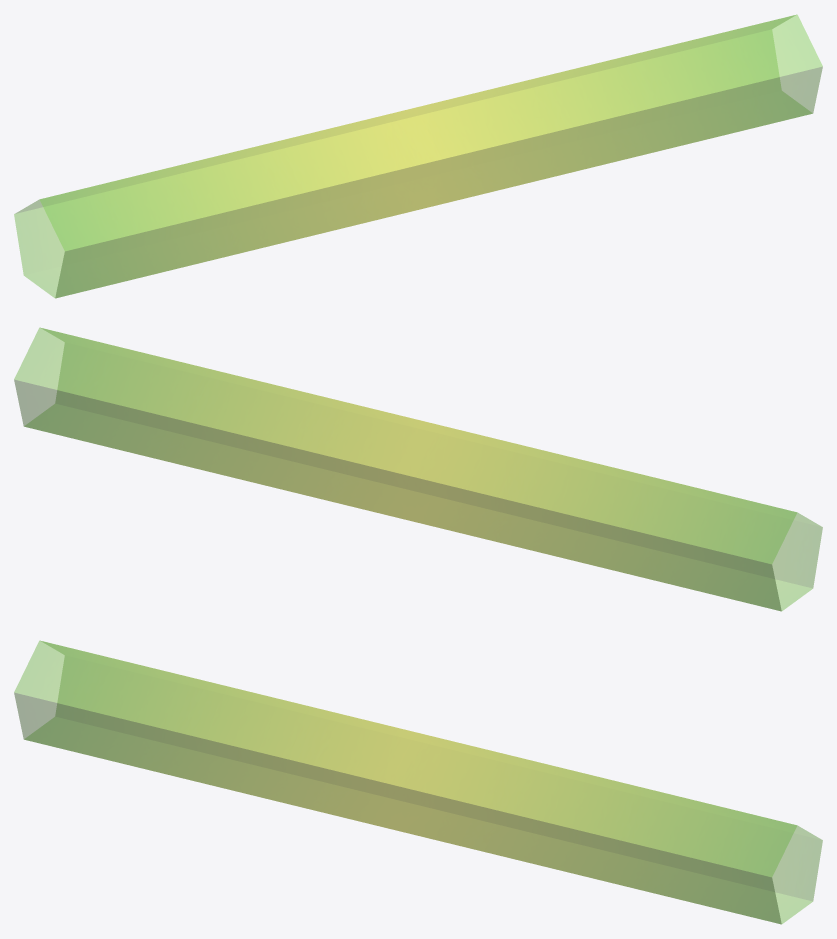
Rendered from laser.fbx.
3 renders of one model, top to bottom at view 1: azimuth 30°, elevation 25°; view 2: azimuth 150°, elevation 25°; view 3: azimuth 330°, elevation 25°, orthographic.
Visible parts, largest first — view 1: polySurface191; view 2: polySurface191; view 3: polySurface191.
Boxes of the visible parts, <box> form: polySurface191: <box>14,14,822,298</box>; polySurface191: <box>14,327,822,611</box>; polySurface191: <box>14,640,822,924</box>.
Bounding box in the file's own units: 99.25 × 10.97 × 11.53.
